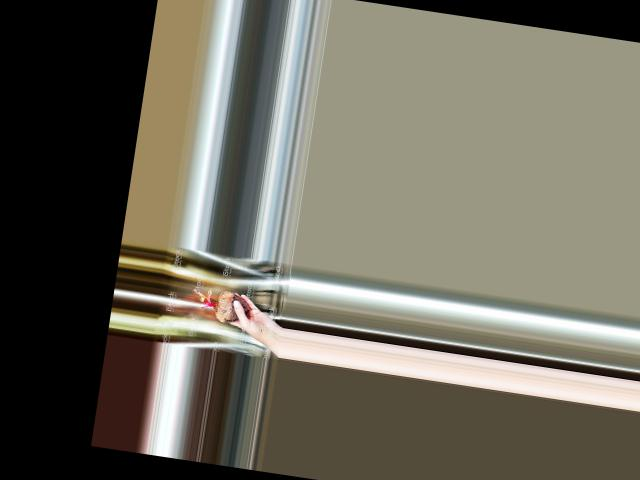beet: (190, 286, 252, 325)
